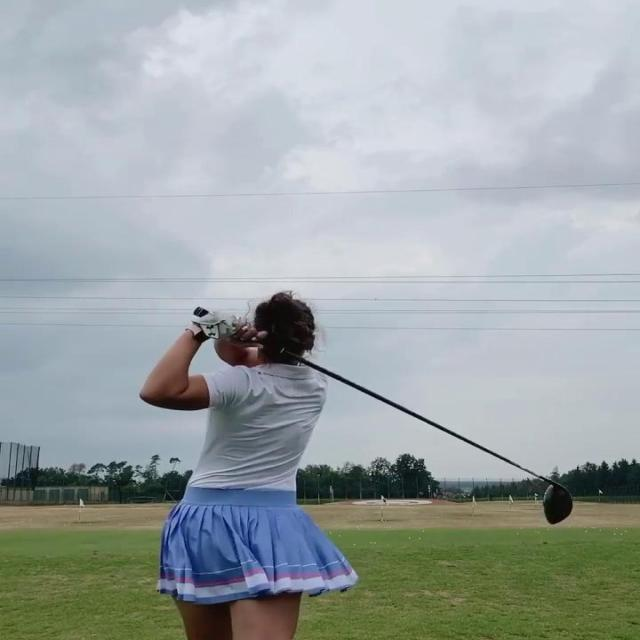golf club-handle: (195, 304, 572, 526)
golf club-head: (542, 479, 570, 525)
